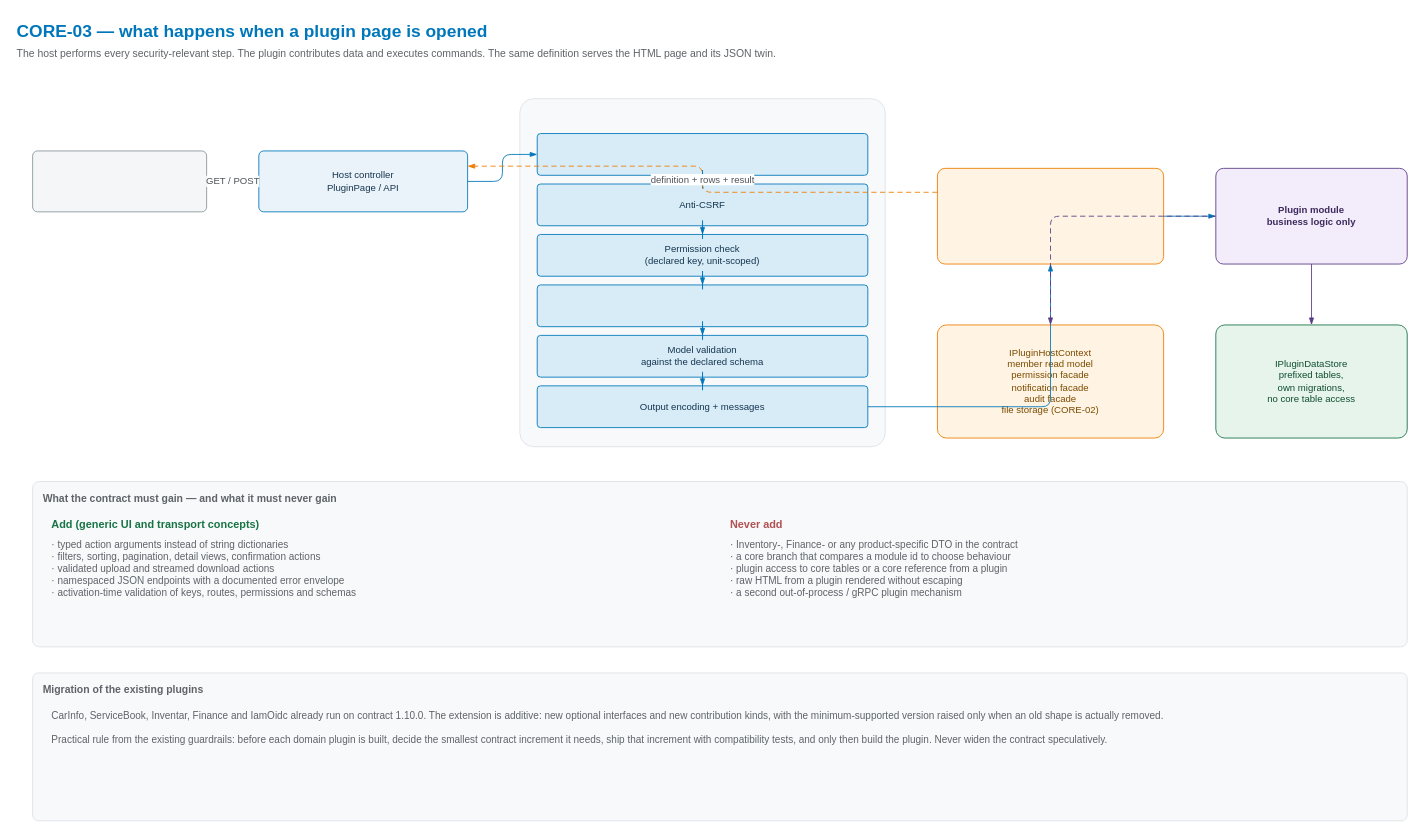
Image size: 1422x836. Some labels were removed from this diagram. Here are the shapes that lost their labels. From the top down, the box of each, then its label:
(536, 133, 868, 175): Authentication
(32, 150, 207, 212): Browser or mobile client
(937, 167, 1164, 264): Plugin contract call GetPageDefinition GetRows ExecuteCommand
(519, 98, 885, 447): Host pipeline — always, for every plugin
(536, 284, 868, 327): Contract version gate
